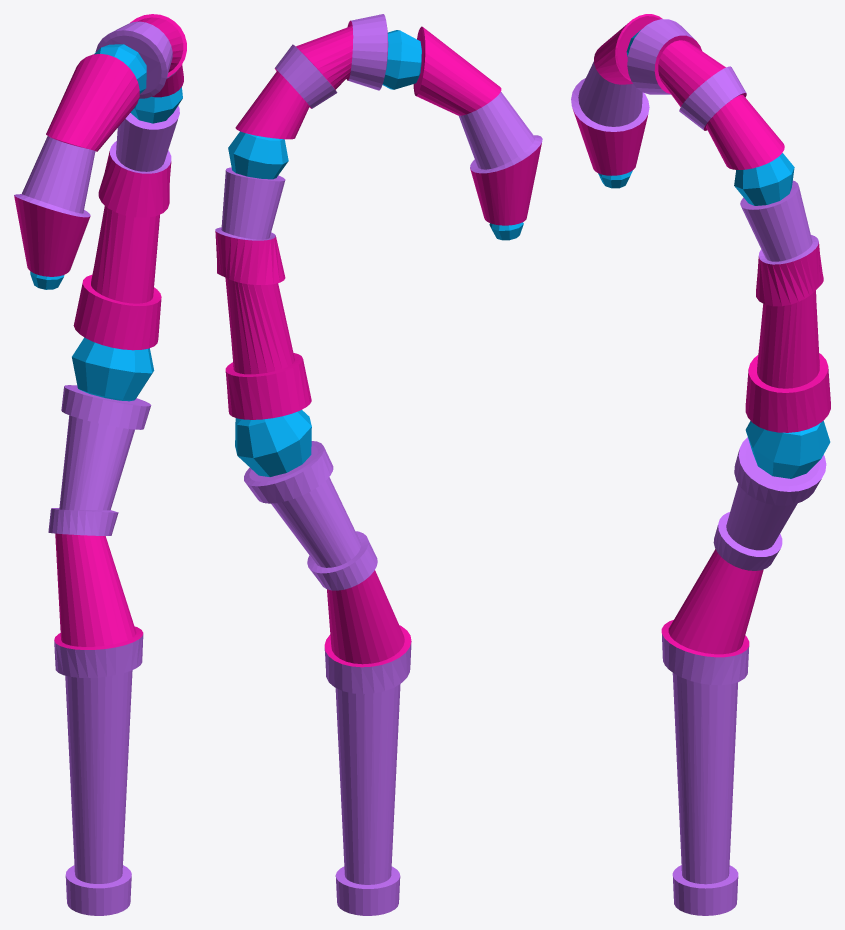
The model's file is PEMBEEE2.obj.
3 renders of one model, left to right at view 1: azimuth 30°, elevation 25°; view 2: azimuth 150°, elevation 25°; view 3: azimuth 270°, elevation 25°, orthographic. The views are drawn at different scales.
Visible parts, largest first — view 1: Plane.005_makine_a.çık, Plane.006_makine_p, Plane.008_makine_p, Plane.005_makine_p, Plane.008_makine_a.çık, Sphere_top, Plane.006_makine_a.çık, Plane.007_makine_a.çık, Plane.007_makine_p, Sphere.001_top, Sphere.002_top, Sphere.003_top; view 2: Plane.005_makine_a.çık, Plane.006_makine_p, Plane.008_makine_p, Plane.005_makine_p, Plane.007_makine_p, Plane.007_makine_a.çık, Sphere_top, Plane.008_makine_a.çık, Plane.006_makine_a.çık, Sphere.001_top, Sphere.002_top; view 3: Plane.005_makine_a.çık, Plane.006_makine_p, Plane.007_makine_p, Plane.005_makine_p, Plane.008_makine_p, Plane.007_makine_a.çık, Plane.006_makine_a.çık, Plane.008_makine_a.çık, Sphere_top, Sphere.001_top.
Boxes of the visible parts, x1=… form: Plane.005_makine_a.çık: x1=48, y1=385, x2=151, y2=915; Plane.006_makine_p: x1=73, y1=151, x2=171, y2=350; Plane.008_makine_p: x1=14, y1=53, x2=139, y2=276; Plane.005_makine_p: x1=54, y1=533, x2=143, y2=649; Plane.008_makine_a.çık: x1=14, y1=136, x2=95, y2=217; Sphere_top: x1=72, y1=337, x2=154, y2=401; Plane.006_makine_a.çık: x1=109, y1=105, x2=179, y2=173; Plane.007_makine_a.çık: x1=95, y1=21, x2=179, y2=98; Plane.007_makine_p: x1=130, y1=14, x2=186, y2=97; Sphere.001_top: x1=130, y1=87, x2=182, y2=123; Sphere.002_top: x1=94, y1=44, x2=146, y2=93; Sphere.003_top: x1=30, y1=271, x2=64, y2=289; Plane.005_makine_a.çık: x1=244, y1=441, x2=411, y2=915; Plane.006_makine_p: x1=215, y1=231, x2=311, y2=419; Plane.008_makine_p: x1=413, y1=26, x2=541, y2=225; Plane.005_makine_p: x1=324, y1=570, x2=411, y2=667; Plane.007_makine_p: x1=235, y1=20, x2=353, y2=139; Plane.007_makine_a.çık: x1=275, y1=14, x2=388, y2=108; Sphere_top: x1=235, y1=410, x2=311, y2=476; Plane.008_makine_a.çık: x1=459, y1=92, x2=542, y2=173; Plane.006_makine_a.çık: x1=215, y1=167, x2=285, y2=240; Sphere.001_top: x1=228, y1=131, x2=288, y2=179; Sphere.002_top: x1=382, y1=30, x2=421, y2=89; Plane.005_makine_a.çık: x1=662, y1=437, x2=826, y2=915; Plane.006_makine_p: x1=745, y1=242, x2=830, y2=432; Plane.007_makine_p: x1=654, y1=35, x2=784, y2=169; Plane.005_makine_p: x1=661, y1=549, x2=763, y2=657; Plane.008_makine_p: x1=572, y1=14, x2=662, y2=175; Plane.007_makine_a.çık: x1=627, y1=19, x2=746, y2=129; Plane.006_makine_a.çık: x1=740, y1=180, x2=818, y2=264; Plane.008_makine_a.çık: x1=571, y1=61, x2=649, y2=131; Sphere_top: x1=745, y1=421, x2=830, y2=478; Sphere.001_top: x1=734, y1=153, x2=794, y2=205.
Size of the model in its own units: 5.61 by 20.08 by 5.34.
